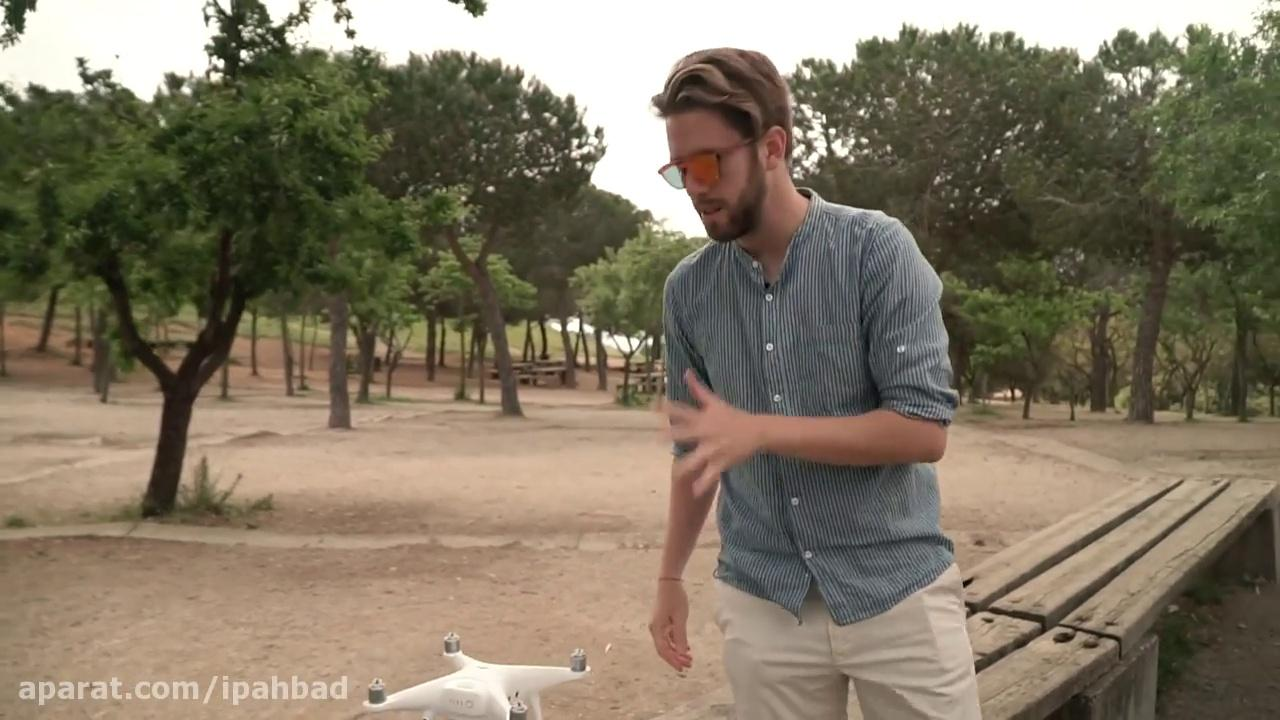drone: (358, 629, 599, 719)
